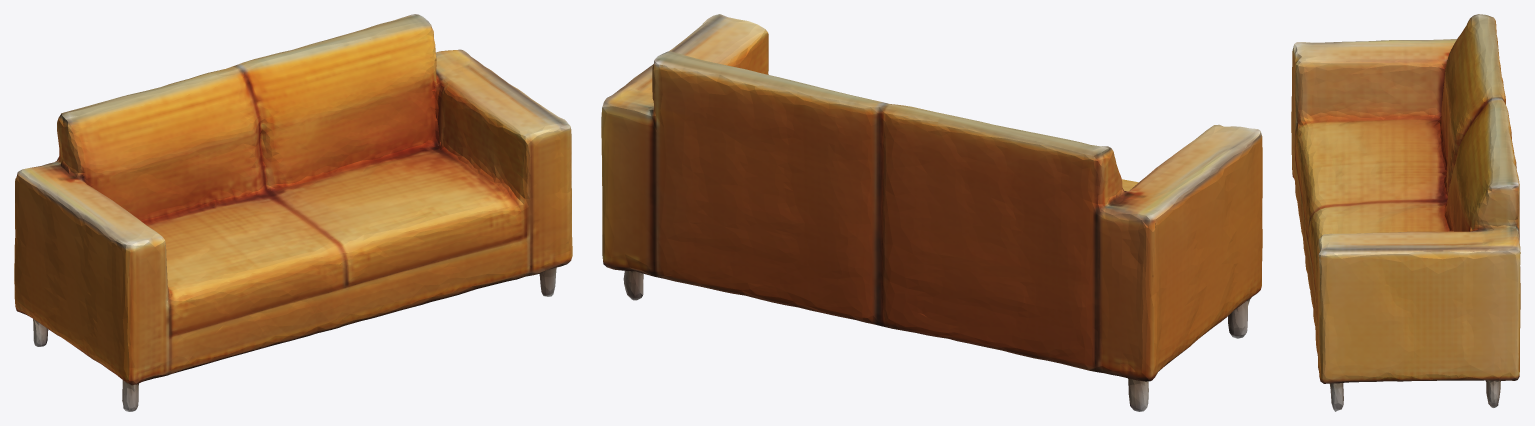
3 renders of one model, left to right at view 1: azimuth 30°, elevation 25°; view 2: azimuth 150°, elevation 25°; view 3: azimuth 270°, elevation 25°, orthographic. The views are drawn at different scales.
Parts seen in each view (by area): view 1: mesh.obj; view 2: mesh.obj; view 3: mesh.obj.
Part boxes in pixels (<box>): mesh.obj: <box>14,14,572,411</box>; mesh.obj: <box>601,14,1262,411</box>; mesh.obj: <box>1291,14,1520,411</box>.
Size of the model in its own units: 1.71 by 0.7729 by 0.7647.
1 material, 1 textured.
